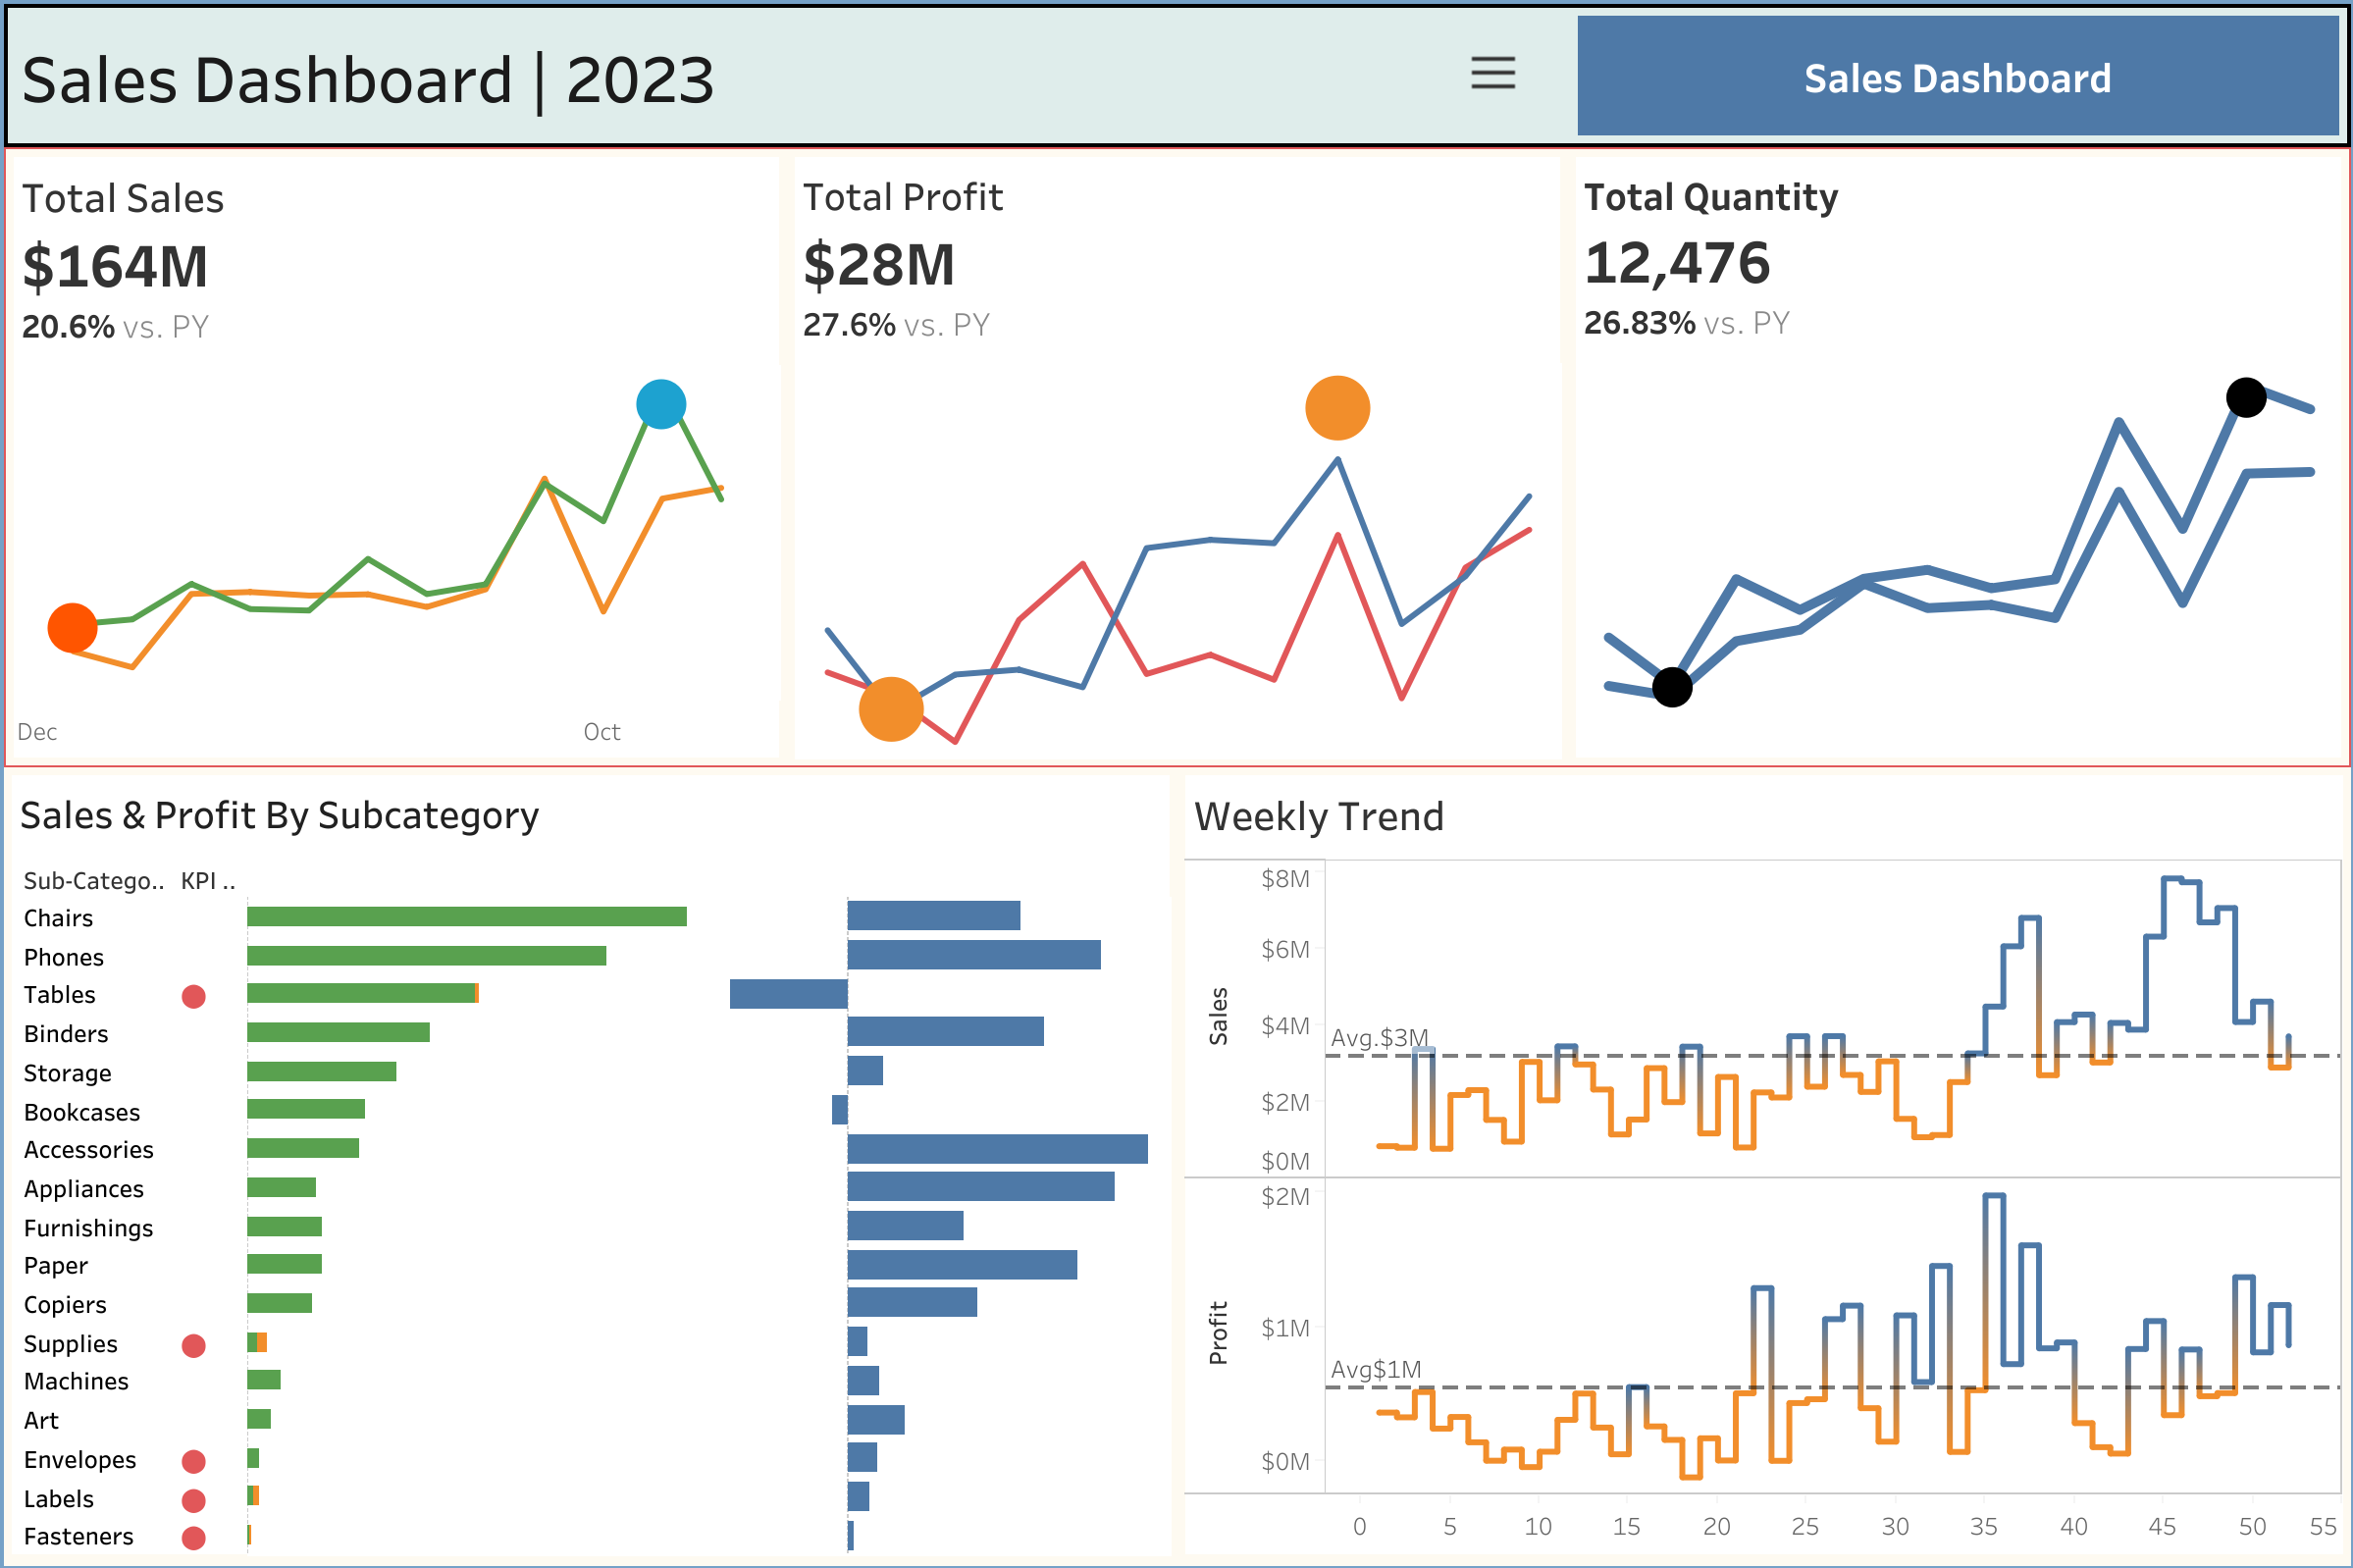

The page's visual inventory and layout, read from the dashboard file:
{"tool":"tableau","page":{"name":"Sales Dashboaed","canvas":[1200,800],"ordinal":0},"visuals":[{"type":"text","box":[4,4,796,69]},{"type":"dashboard-object","box":[800,4,396,69]},{"type":"parameter","param":"[Parameters].[Parameter 1]","box":[640,13,156,37.3]},{"type":"dashboard-object","box":[749,25,24,24]},{"type":"legend","title":"KPI Sales","param":"[federated.0j0yqao1an8xvq16ptjdb0suihaw].[:Measure Names]","box":[640,50.3,156,37.3]},{"type":"worksheet","title":"KPI Sales","mark":"Automatic","rows":["Calculation_4861072903278223360"],"cols":["Order Date"],"box":[3,76,398,314]},{"type":"worksheet","title":"KPI Profit","mark":"Automatic","rows":["Calculation_4994914254777225240"],"cols":["Order Date"],"box":[401,76,398,314]},{"type":"worksheet","title":"KPI Quantity","mark":"Automatic","rows":["Calculation_4994914254777389081"],"cols":["Order Date"],"box":[799,76,398,314]},{"type":"legend","title":"KPI Sales","param":"[federated.0j0yqao1an8xvq16ptjdb0suihaw].[usr:Calculation_4861072903278223360:qk","box":[640,87.7,156,37.3]},{"type":"filter","title":"Sub- Category","param":"[federated.0j0yqao1an8xvq16ptjdb0suihaw].[sum:Calculation_4994914254772383748:qk","box":[640,125,156,37.3]},{"type":"legend","title":"Weekly Trend","param":"[federated.0j0yqao1an8xvq16ptjdb0suihaw].[usr:Calculation_4994914254776877077:nk","box":[640,162.3,156,37.3]},{"type":"legend","title":"Weekly Trend","param":"[federated.0j0yqao1an8xvq16ptjdb0suihaw].[usr:Calculation_4994914254776766484:nk","box":[640,199.6,156,37.4]},{"type":"worksheet","title":"Sub- Category","mark":"Bar","rows":["Sub-Category","Calculation_4994914254776639507"],"cols":["Calculation_4783174703430254594","Calculation_4783174703428947968","Calculation_4994914254772584453"],"box":[2,391,598,405]},{"type":"worksheet","title":"Weekly Trend","mark":"Automatic","rows":["Calculation_4783174703428947968","Calculation_4994914254772584453"],"cols":["Order Date"],"box":[600,391,598,405]}]}

Visuals, with their boxes in screenshot pixels (x1, y1, x2, y2), scaled from the page's 1200x800 canvas onto the 2353x1568 screenshot:
text: 8/8/1569/143
dashboard-object: 1569/8/2345/143
parameter: 1255/26/1561/98
dashboard-object: 1469/49/1516/96
"KPI Sales" legend: 1255/98/1561/172
"KPI Sales" worksheet: 6/149/786/764
"KPI Profit" worksheet: 786/149/1567/764
"KPI Quantity" worksheet: 1567/149/2347/764
"KPI Sales" legend: 1255/172/1561/245
"Sub- Category" filter: 1255/245/1561/318
"Weekly Trend" legend: 1255/318/1561/392
"Weekly Trend" legend: 1255/392/1561/464
"Sub- Category" worksheet (Bar marks): 4/766/1176/1560
"Weekly Trend" worksheet: 1176/766/2349/1560
